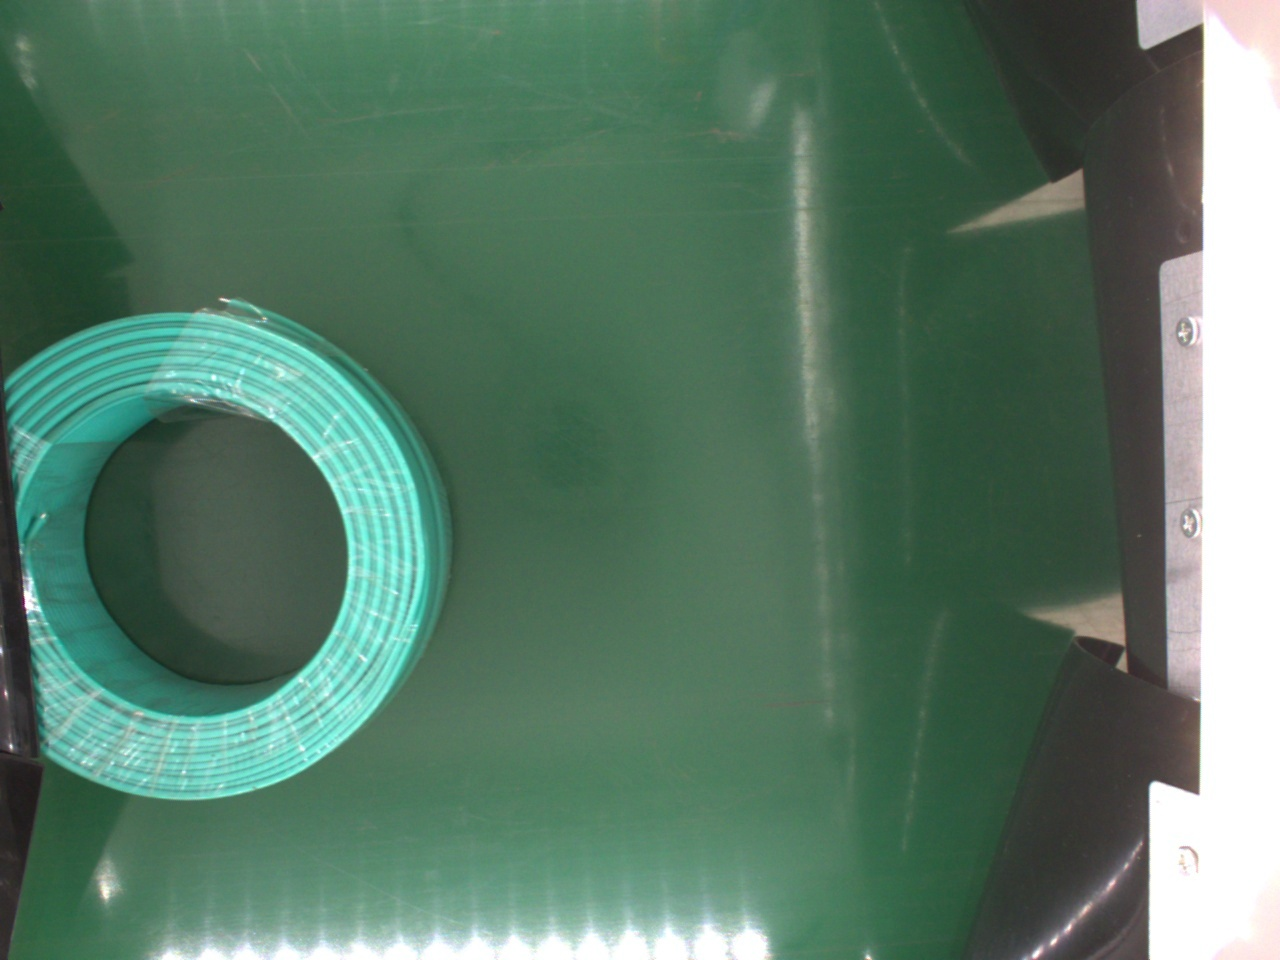green: (9, 307, 458, 802)
